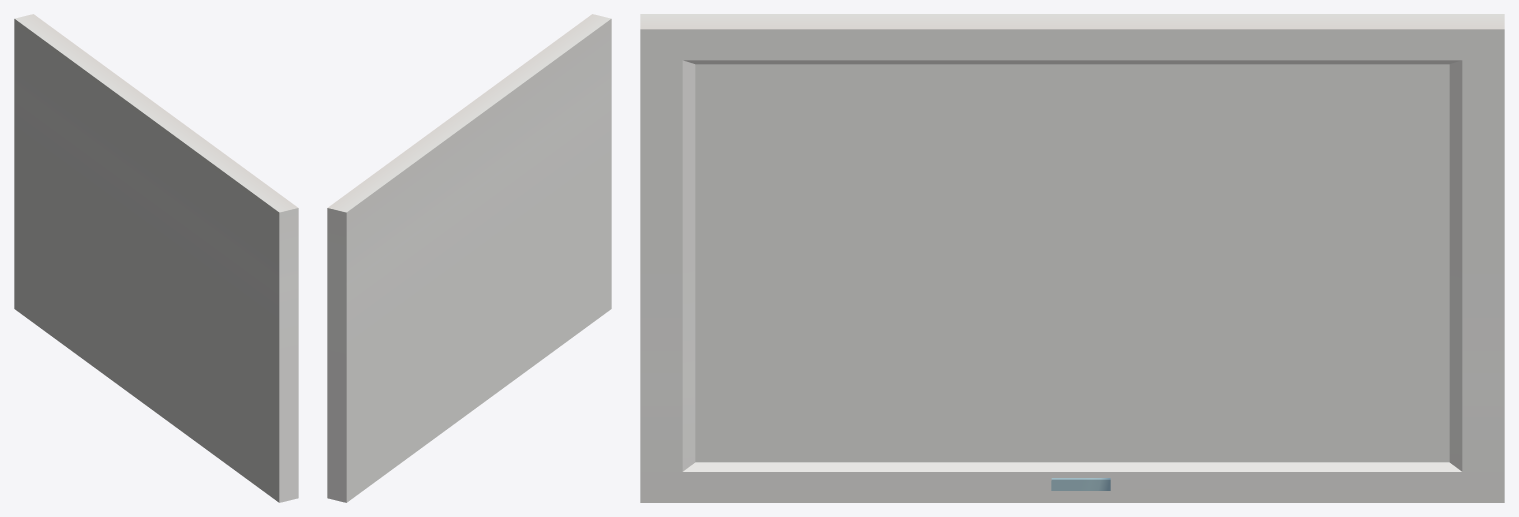
Rendered from Livingroom2_TV.fbx.
3 renders of one model, left to right at view 1: azimuth 30°, elevation 25°; view 2: azimuth 150°, elevation 25°; view 3: azimuth 270°, elevation 25°, orthographic. The views are drawn at different scales.
Visible parts, largest first — view 1: Livingroom2_TV; view 2: Livingroom2_TV; view 3: Livingroom2_TV.
Part boxes in pixels (left/top/right/bottom): Livingroom2_TV: left=14, top=14, right=298, bottom=502; Livingroom2_TV: left=327, top=14, right=611, bottom=502; Livingroom2_TV: left=640, top=14, right=1504, bottom=502.
Bounding box in the file's own units: 9.99 × 133 × 220.
